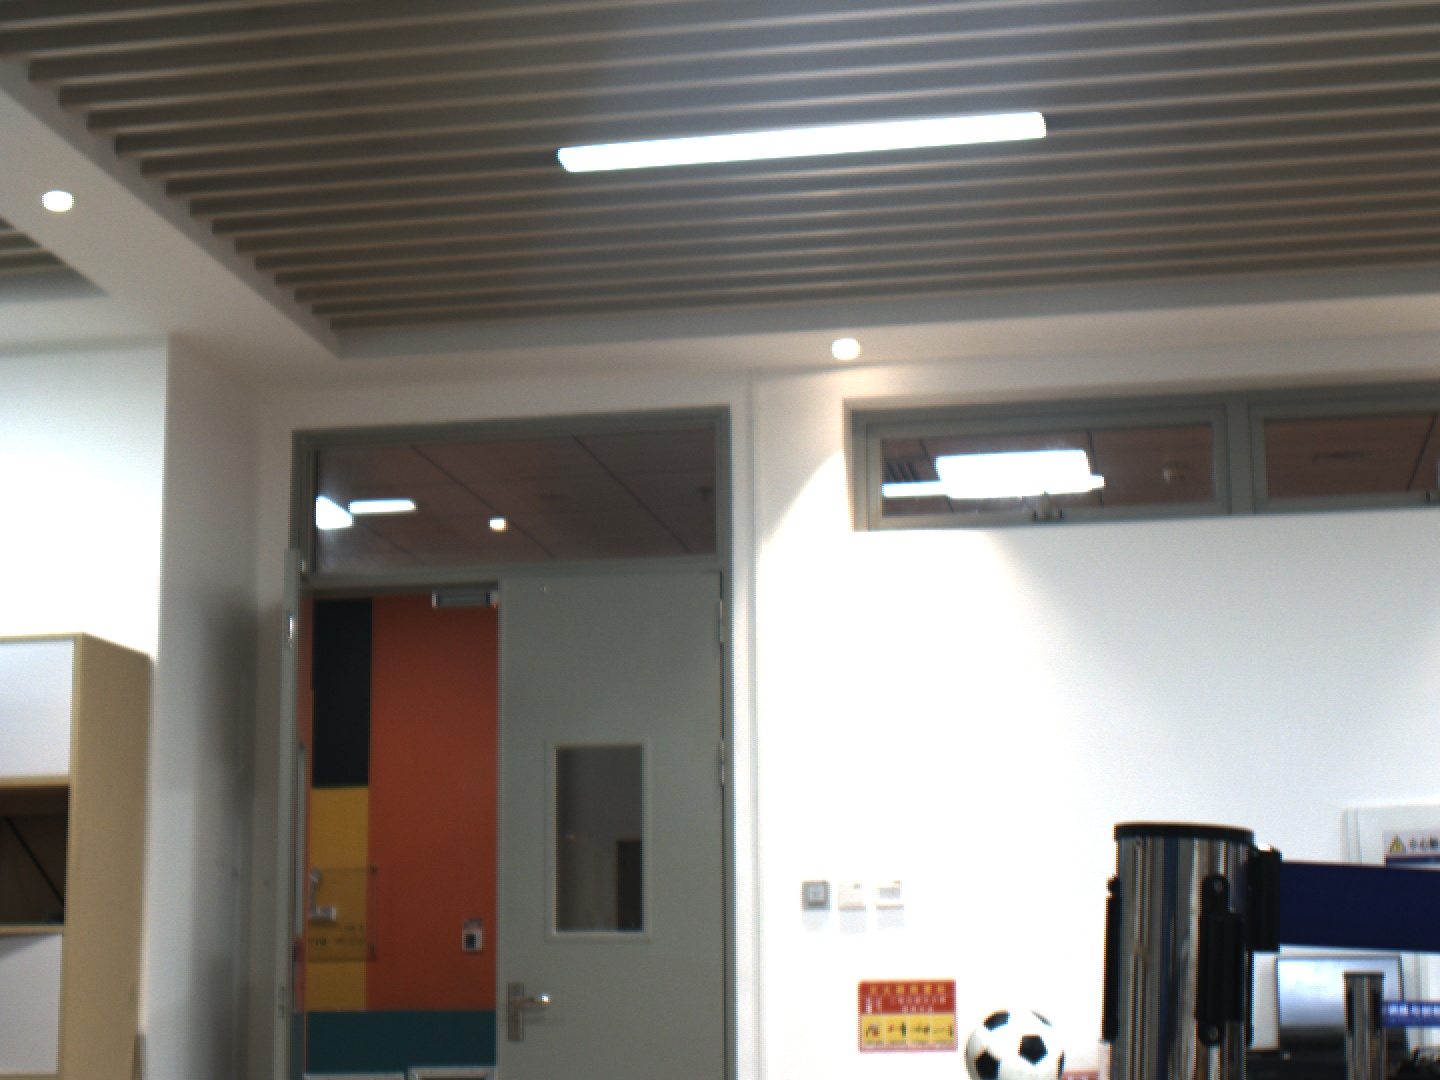ball: (957, 1002, 1070, 1080)
